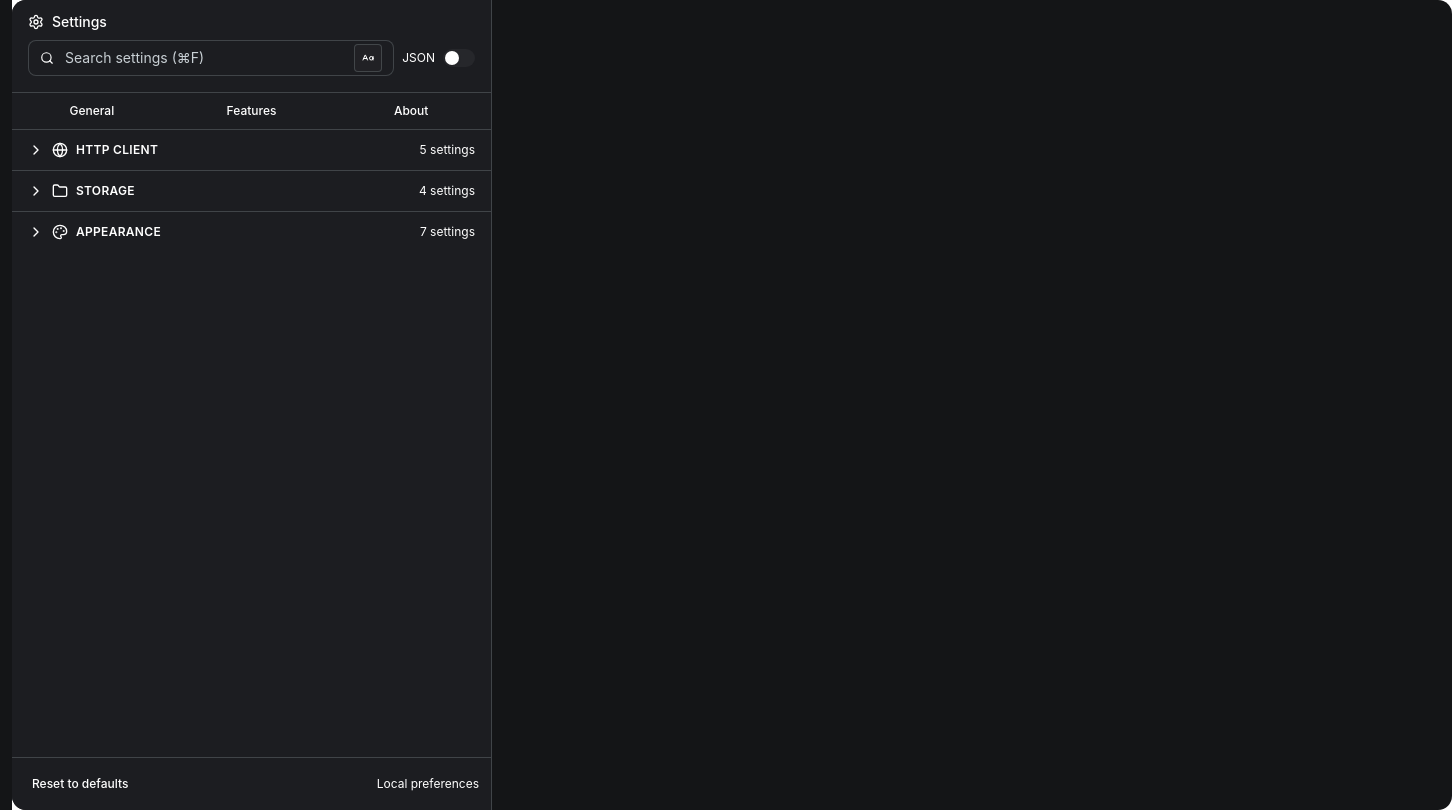
Test: SettingsPanel › toggles JSON mode
Click the switch with test id "settings-json-toggle" at {"x": 459, "y": 58}, box [443,49,475,67]
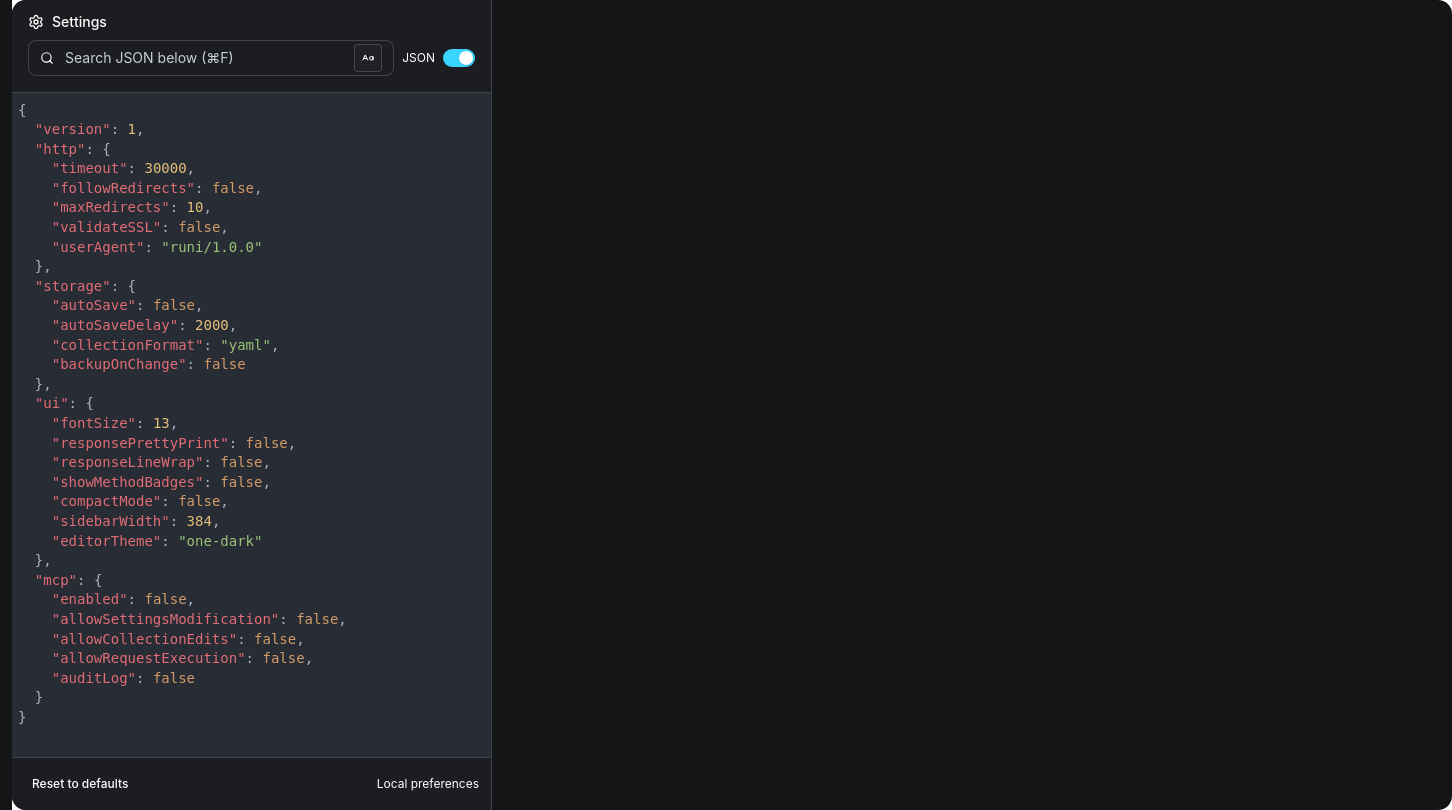
Expected: the element with test id "settings-json-editor" is shown, [12,92,491,757]
